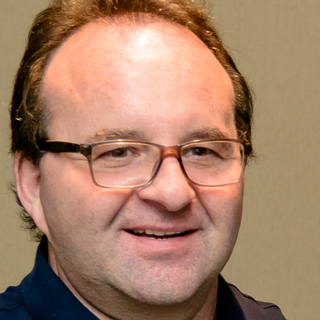eye: (176, 140, 228, 171), (90, 140, 144, 165)
